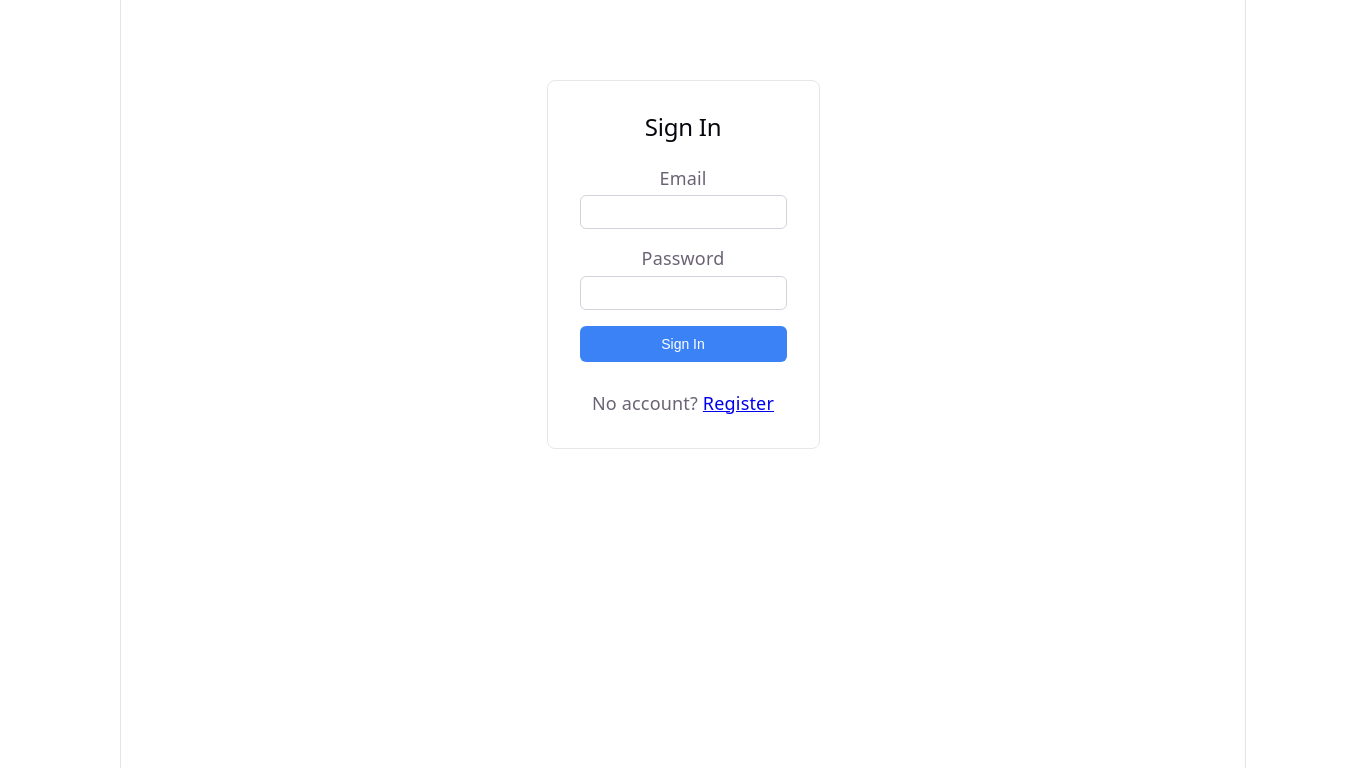
Test case: LoginForm › shows an error message when login fails
Type "user@example.com" into the field labelled "Email" at coordinates (683, 212), box [580,195,786,229]
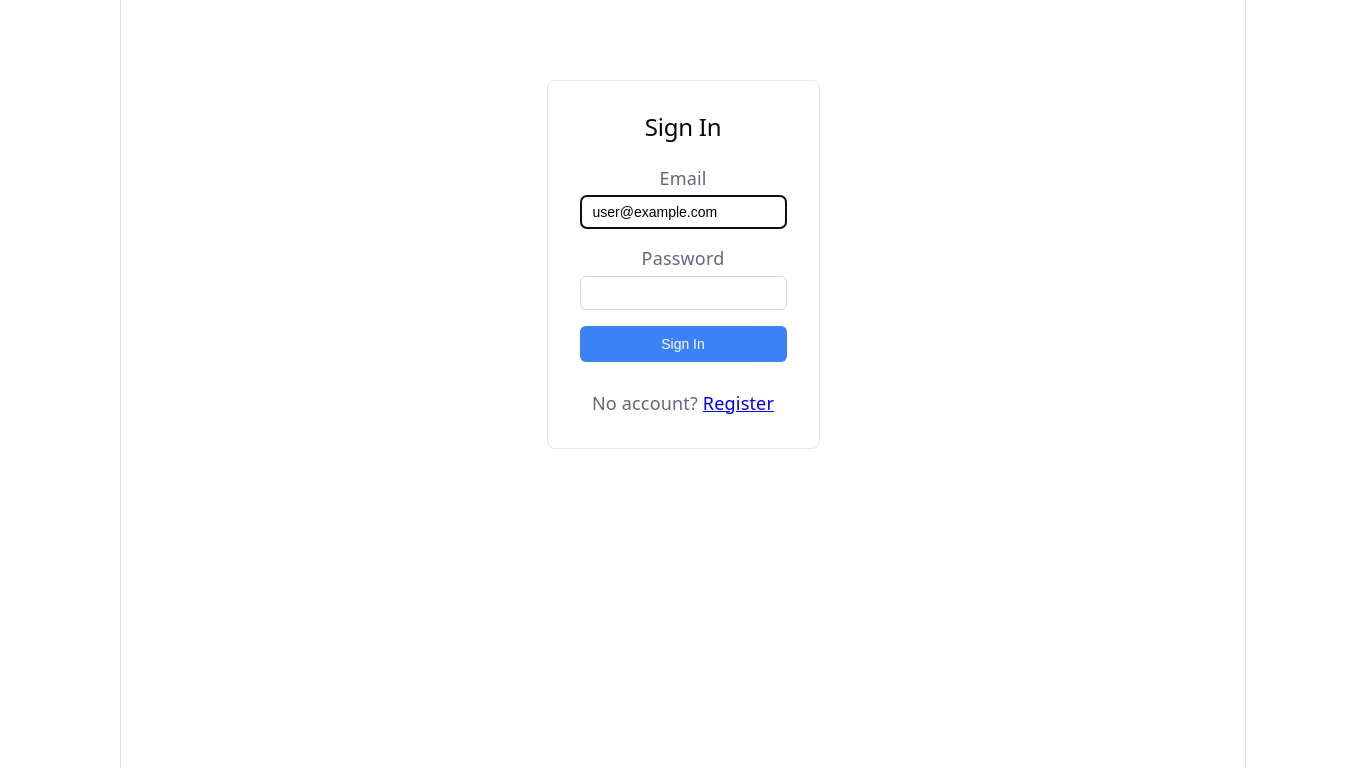
Type "wrongpass" into the password field labelled "Password" at coordinates (683, 292), box [580,276,786,310]
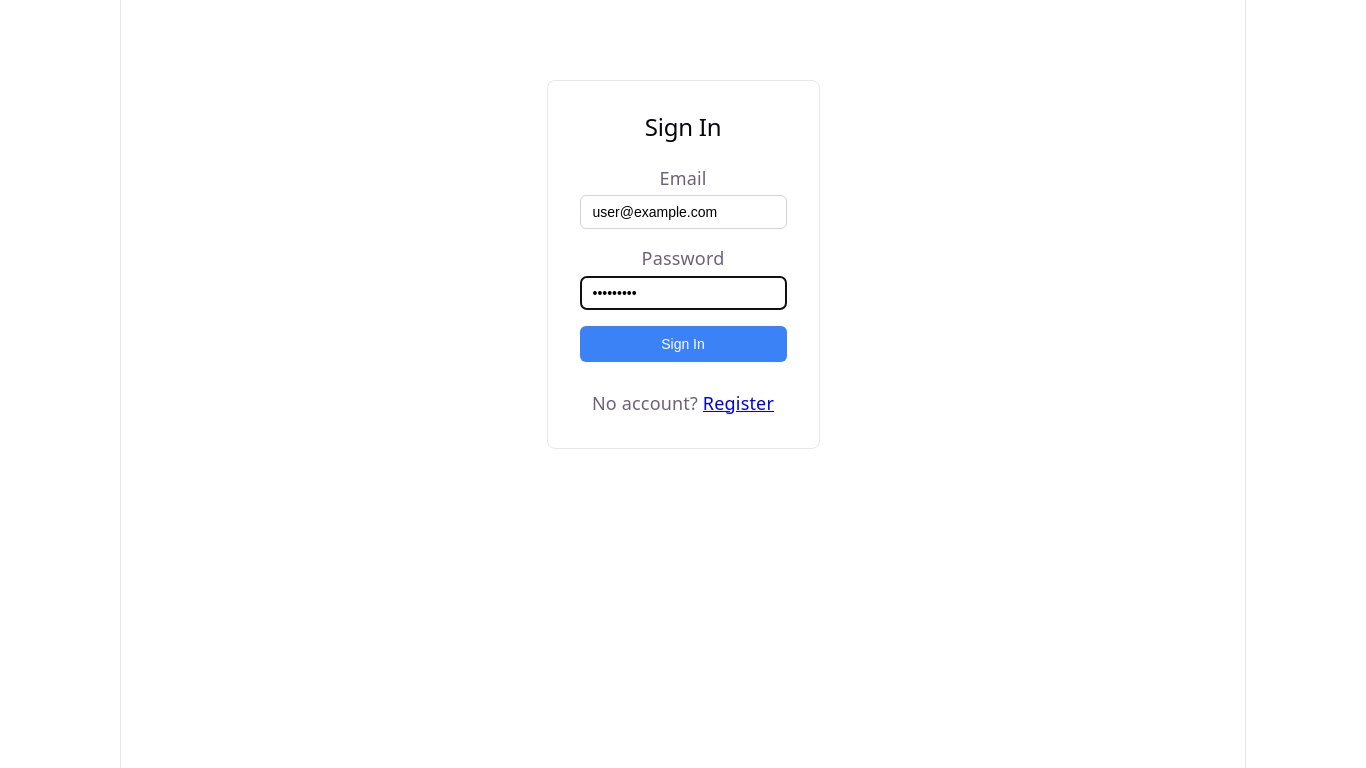
Click the button "Sign In" at coordinates (683, 344), box [580,326,786,362]
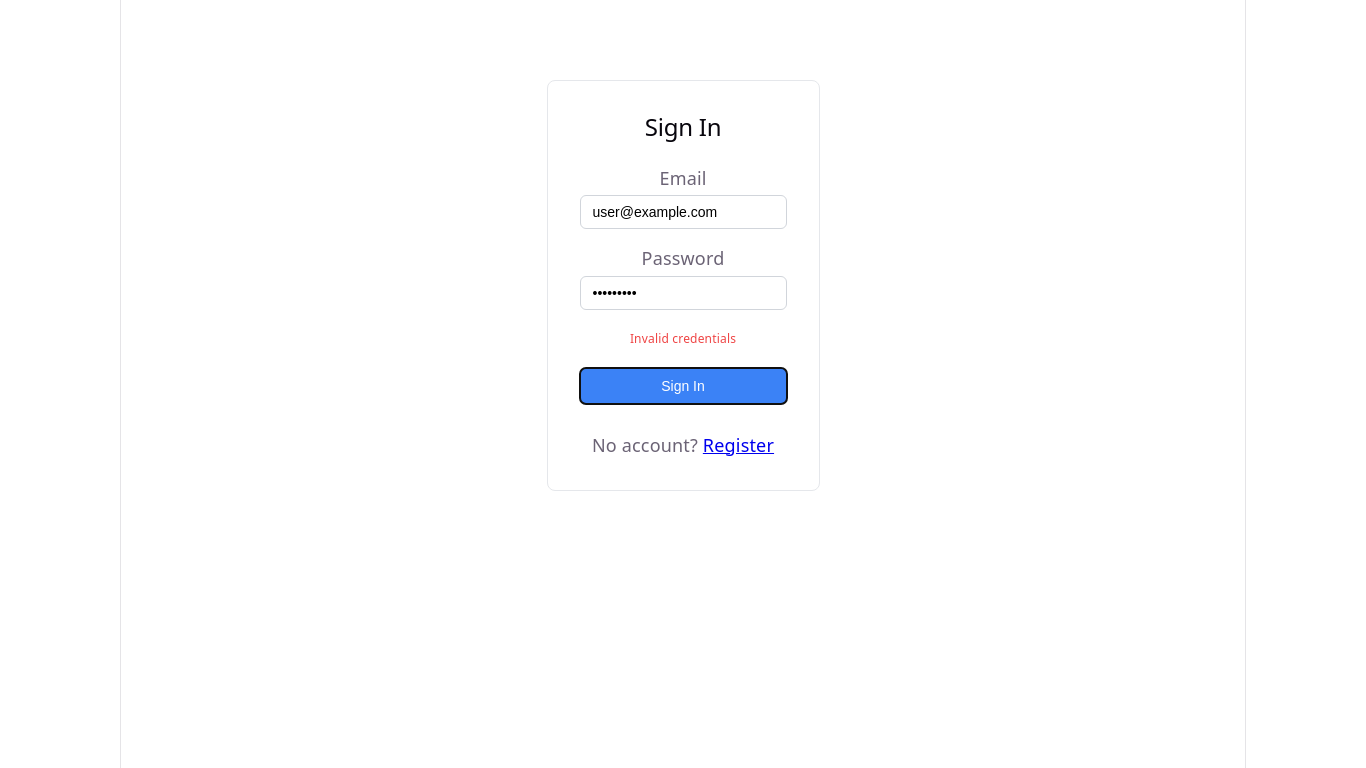
Check: the text "Invalid credentials" is shown, box [630,330,736,346]
